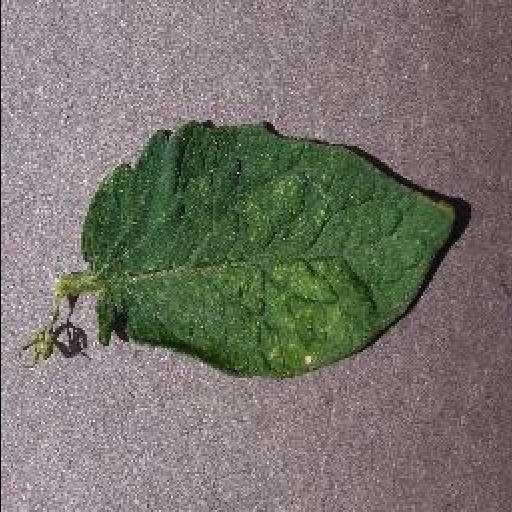disease_tomato: (81, 122, 459, 380)
